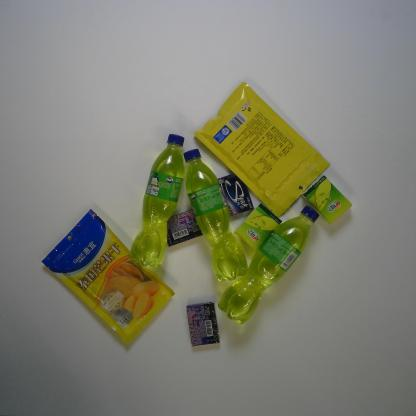Dried Fruit: (194, 79, 331, 220), (41, 206, 177, 348)
Drink: (217, 204, 321, 327), (180, 146, 250, 285), (128, 132, 186, 272)
Gum: (216, 170, 257, 216), (161, 206, 204, 248), (184, 302, 221, 347)
Tissue: (301, 175, 355, 227), (235, 202, 283, 250)
